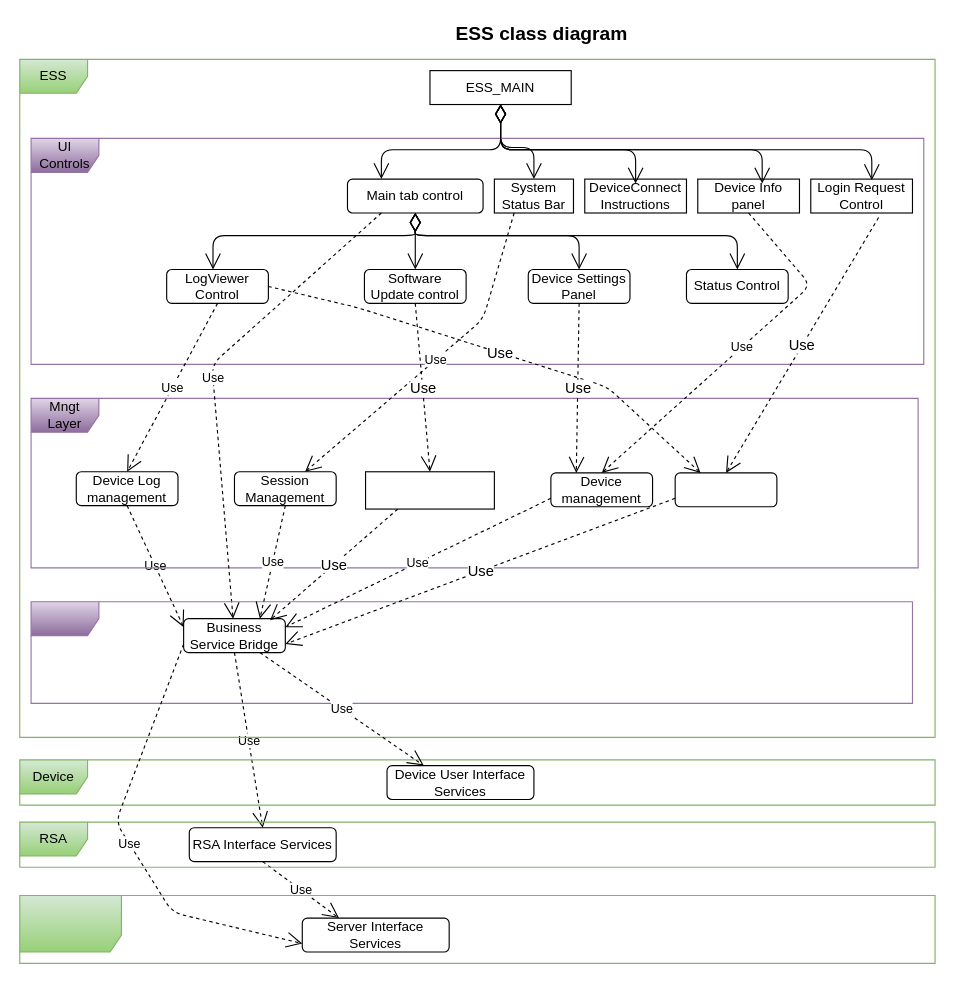
Image size: 955x983. Some labels were removed from this diagram. The centre of each missing label's shape, as x and y in pixels:
"Authentication Services" goes at (725,489).
"Business Layer" goes at (471,652).
"Remote Service Server (RSS)" goes at (477,928).
"SoftwarePackage Management" goes at (429,490).
